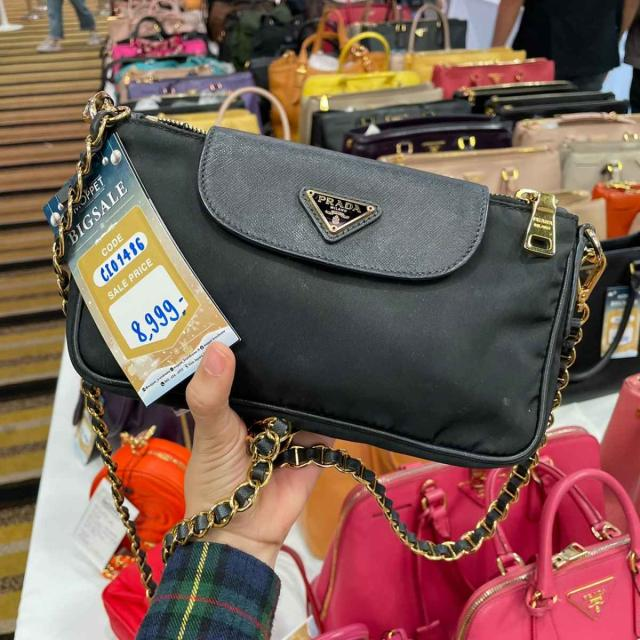Handbag: (51, 75, 589, 484)
